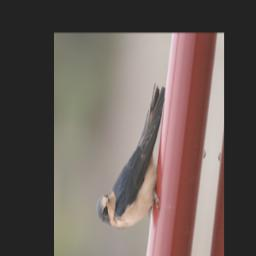Swallow: (93, 74, 177, 237)
